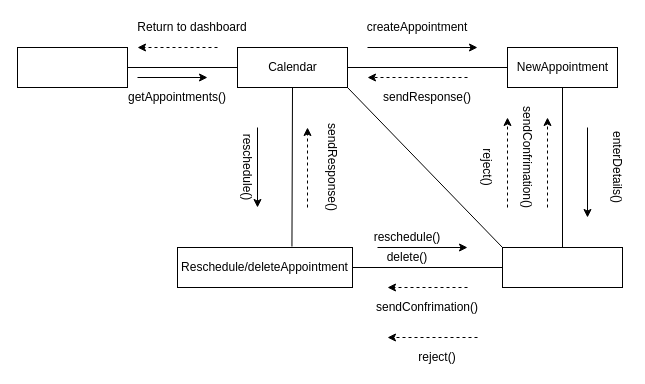
Some shapes in this 645 by 384 pixel diagram are drawn without their labels. Here are the shapes that lost their labels. From the top down, the box of each, then its label:
(16, 46, 128, 88): Dashboard
(502, 246, 622, 288): Database
